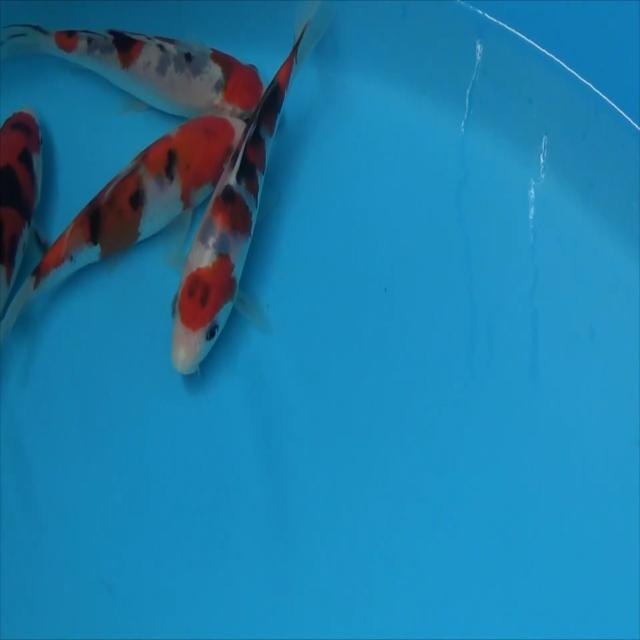Sanke: (0, 112, 246, 342), (170, 17, 310, 376), (1, 21, 264, 122), (0, 108, 43, 291)
